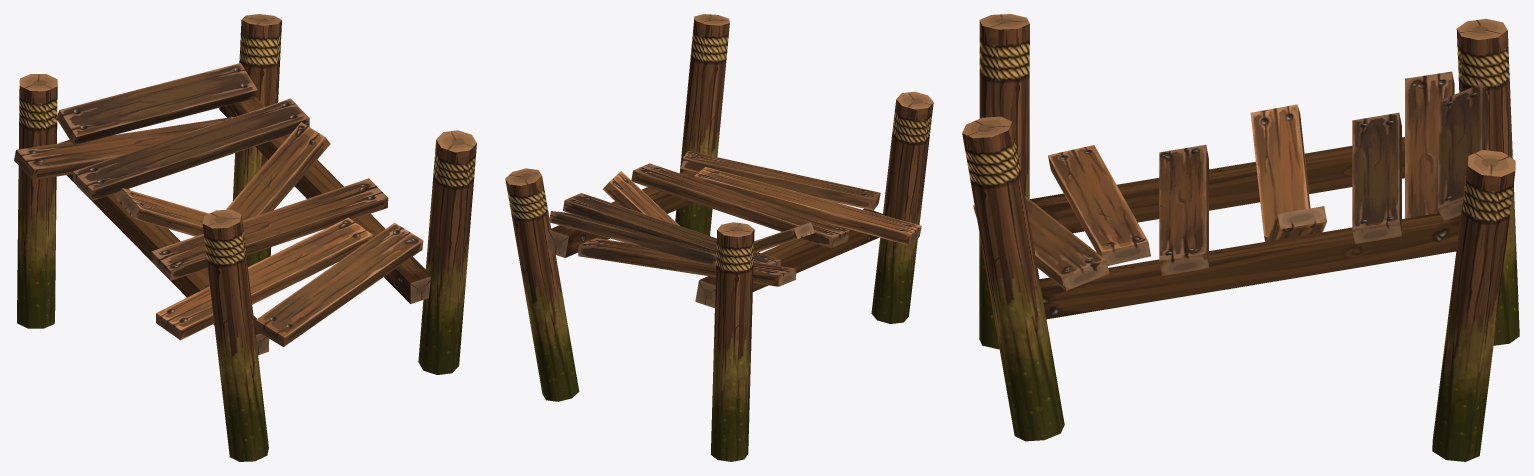
The model's file is pier_end_B.fbx.
3 renders of one model, left to right at view 1: azimuth 30°, elevation 25°; view 2: azimuth 150°, elevation 25°; view 3: azimuth 270°, elevation 25°, orthographic. The views are drawn at different scales.
Parts seen in each view (by area): view 1: pier_end_B; view 2: pier_end_B; view 3: pier_end_B.
Part boxes in pixels (x1,y1,x2,y2): pier_end_B: (14, 14, 476, 461); pier_end_B: (505, 14, 933, 461); pier_end_B: (962, 14, 1519, 461).
Size of the model in its own units: 256 by 241 by 350.
